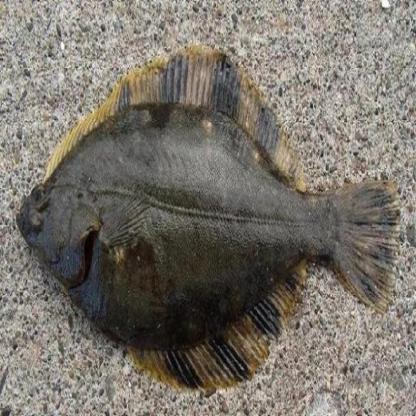flounder: (20, 35, 398, 396)
